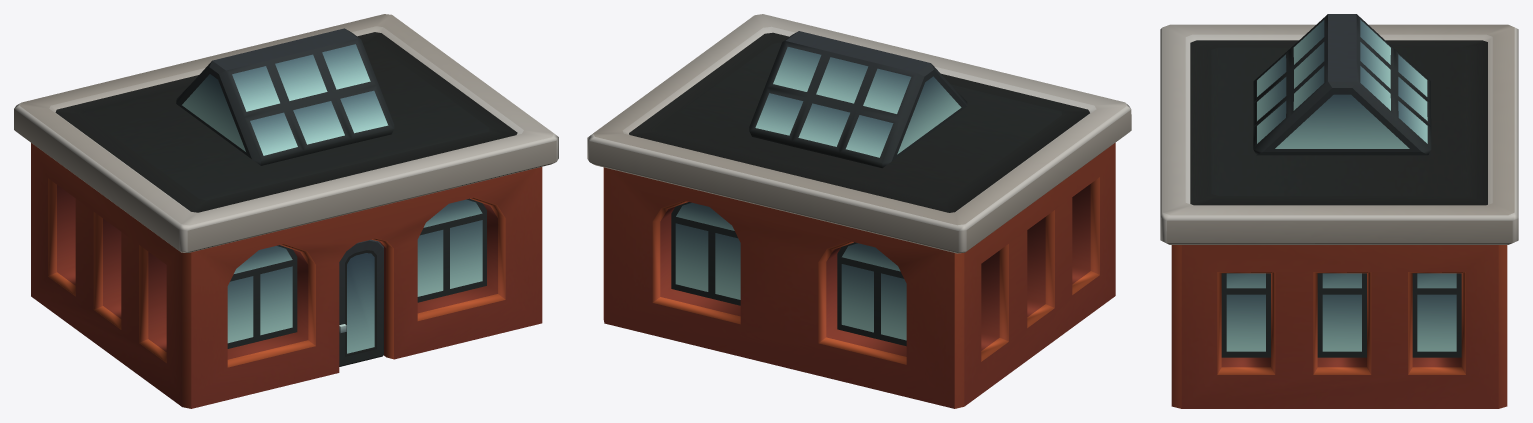
File: office_building_type1_rooftop_floor_red.fbx
3 views of the same model, side by side, from view 1: azimuth 30°, elevation 25°; view 2: azimuth 150°, elevation 25°; view 3: azimuth 270°, elevation 25° (orthographic). The views are drawn at different scales.
Visible parts, largest first — view 1: office_building_type1_rooftop_floor_red, door_office_building_type1_rooftop_floor_red; view 2: office_building_type1_rooftop_floor_red; view 3: office_building_type1_rooftop_floor_red.
Boxes of the visible parts, <box> form: office_building_type1_rooftop_floor_red: <box>14,14,558,408</box>; door_office_building_type1_rooftop_floor_red: <box>339,239,383,366</box>; office_building_type1_rooftop_floor_red: <box>587,14,1131,408</box>; office_building_type1_rooftop_floor_red: <box>1160,14,1518,408</box>.
Bounding box in the file's own units: 800 × 520 × 625.
